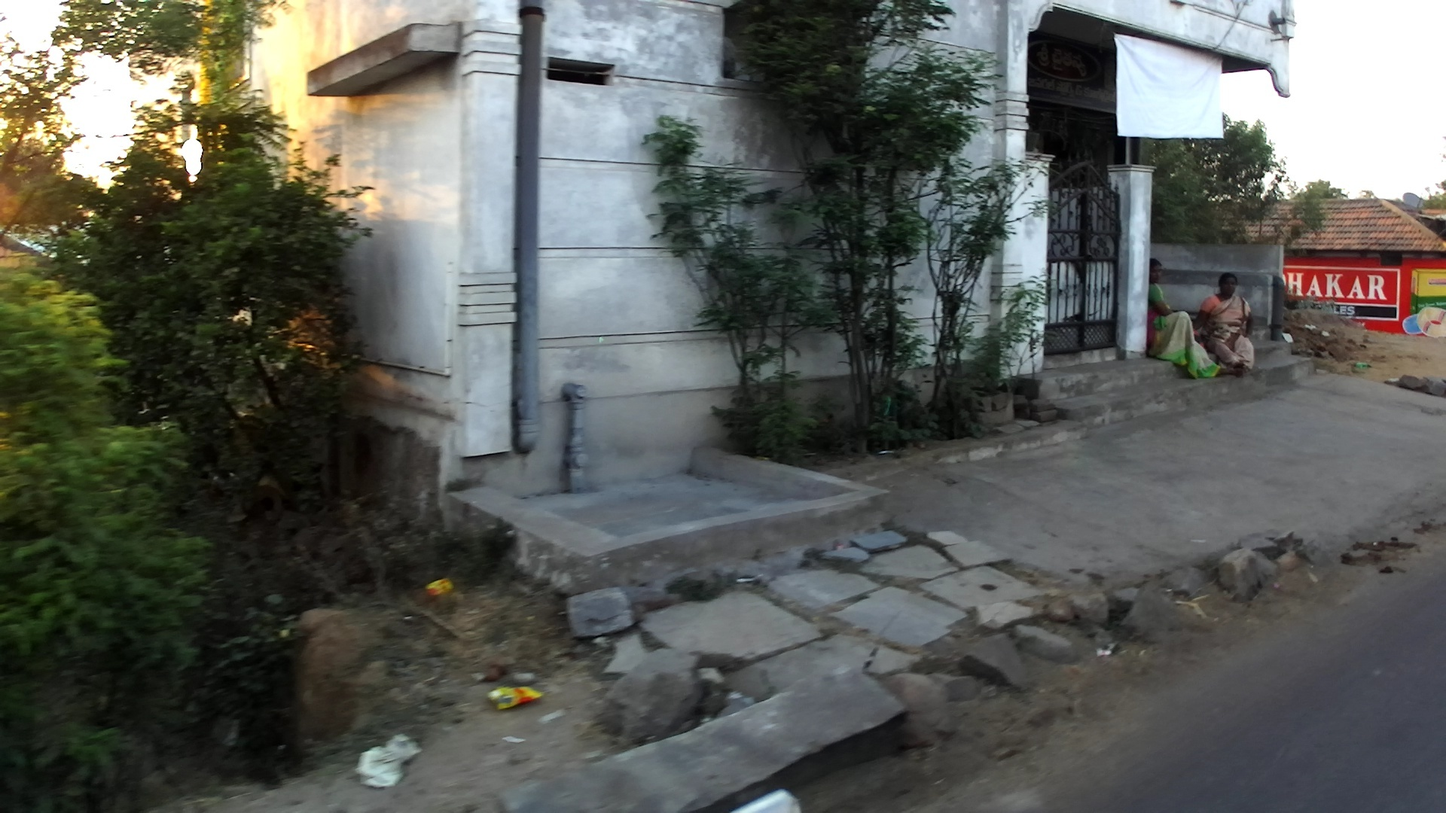person: (1145, 257, 1246, 379), (1194, 271, 1256, 373)
